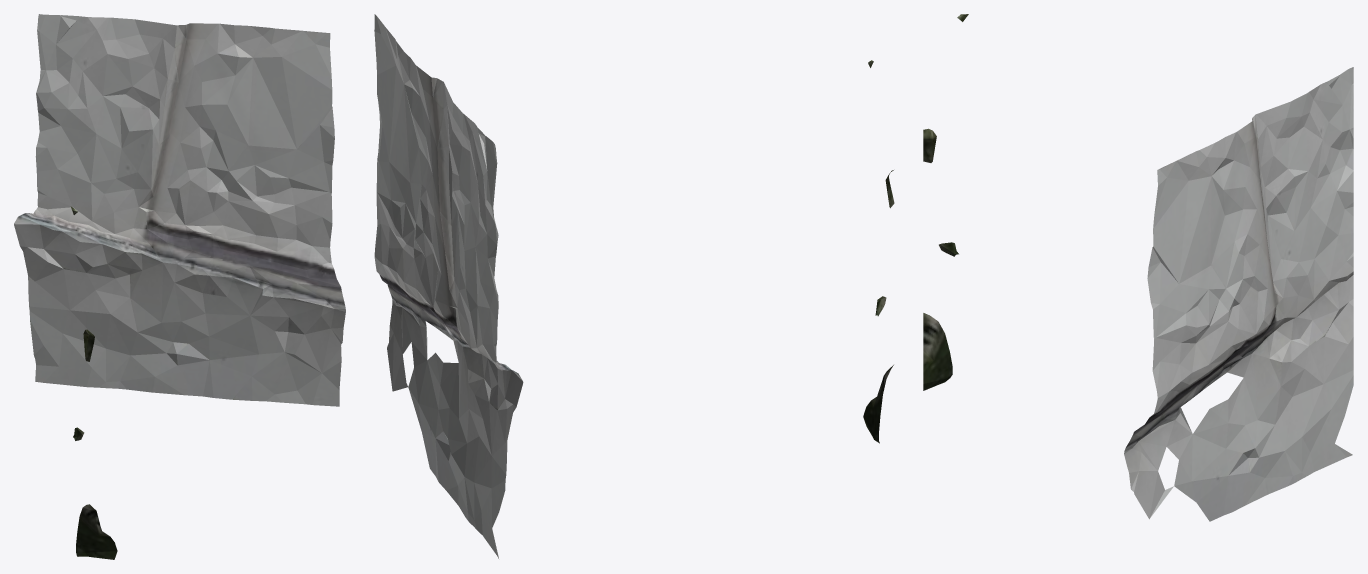
3 renders of one model, left to right at view 1: azimuth 30°, elevation 25°; view 2: azimuth 150°, elevation 25°; view 3: azimuth 270°, elevation 25°, orthographic. The views are drawn at different scales.
Size of the model in its own units: 1.67 by 1.67 by 1.67.
Materials: 2 (2 with a texture image).
